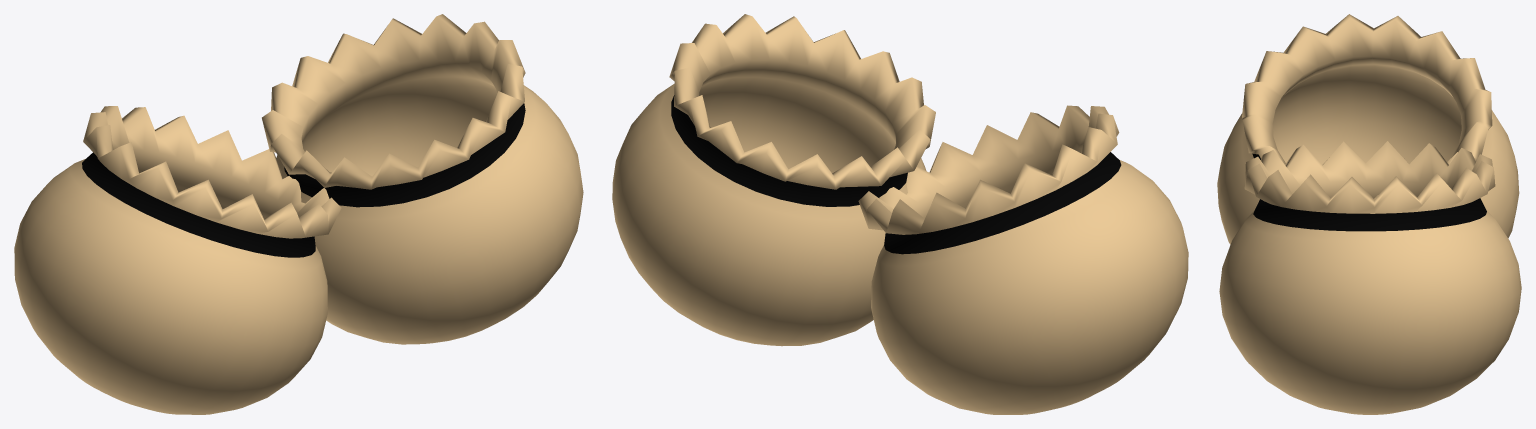
File: Gloves.fbx
The picture shows the model from 3 angles, left to right: view 1: azimuth 30°, elevation 25°; view 2: azimuth 150°, elevation 25°; view 3: azimuth 270°, elevation 25°; orthographic projection. The views are drawn at different scales.
Parts seen in each view (by area): view 1: Sphere.002, Sphere.001; view 2: Sphere.002, Sphere.001; view 3: Sphere.002, Sphere.001.
Boxes of the visible parts, x1=… form: Sphere.002: x1=262, y1=14, x2=583, y2=344; Sphere.001: x1=14, y1=106, x2=341, y2=414; Sphere.002: x1=612, y1=14, x2=935, y2=346; Sphere.001: x1=858, y1=105, x2=1188, y2=414; Sphere.002: x1=1219, y1=141, x2=1521, y2=414; Sphere.001: x1=1217, y1=14, x2=1519, y2=244.
Size of the model in its own units: 1164 by 612 by 621.
